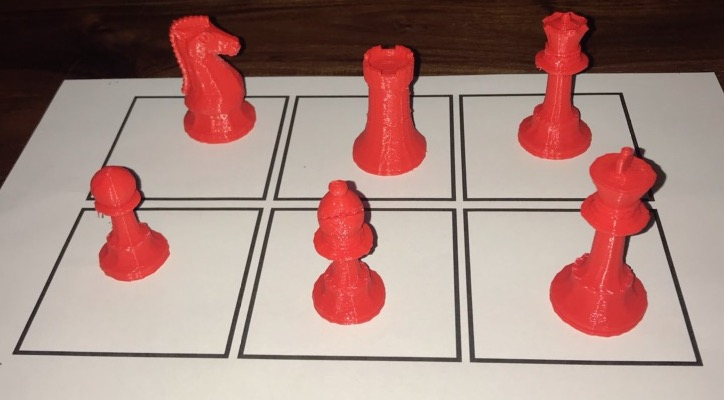Red Bishop: (299, 171, 398, 327)
Red Castle: (543, 142, 659, 345), (343, 42, 431, 182)
Red Knight: (160, 11, 264, 148)
Red Pawn: (83, 161, 172, 284)
Red Queen: (517, 12, 603, 166)
